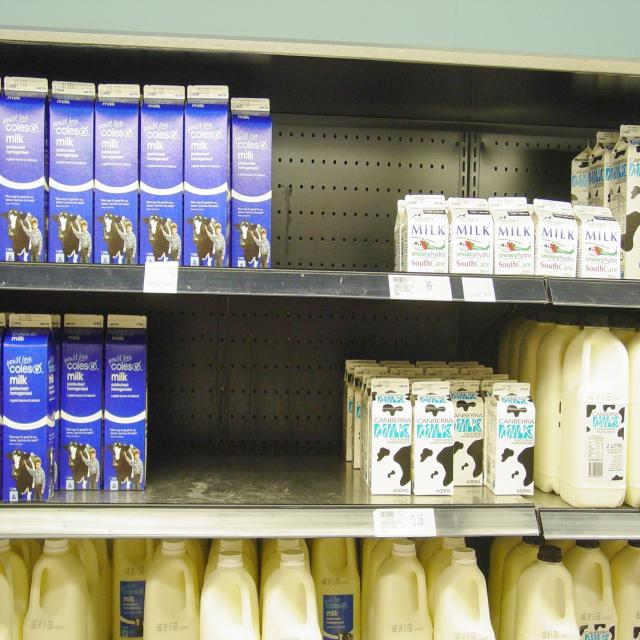empty_space: (153, 320, 345, 504), (274, 72, 394, 272)
